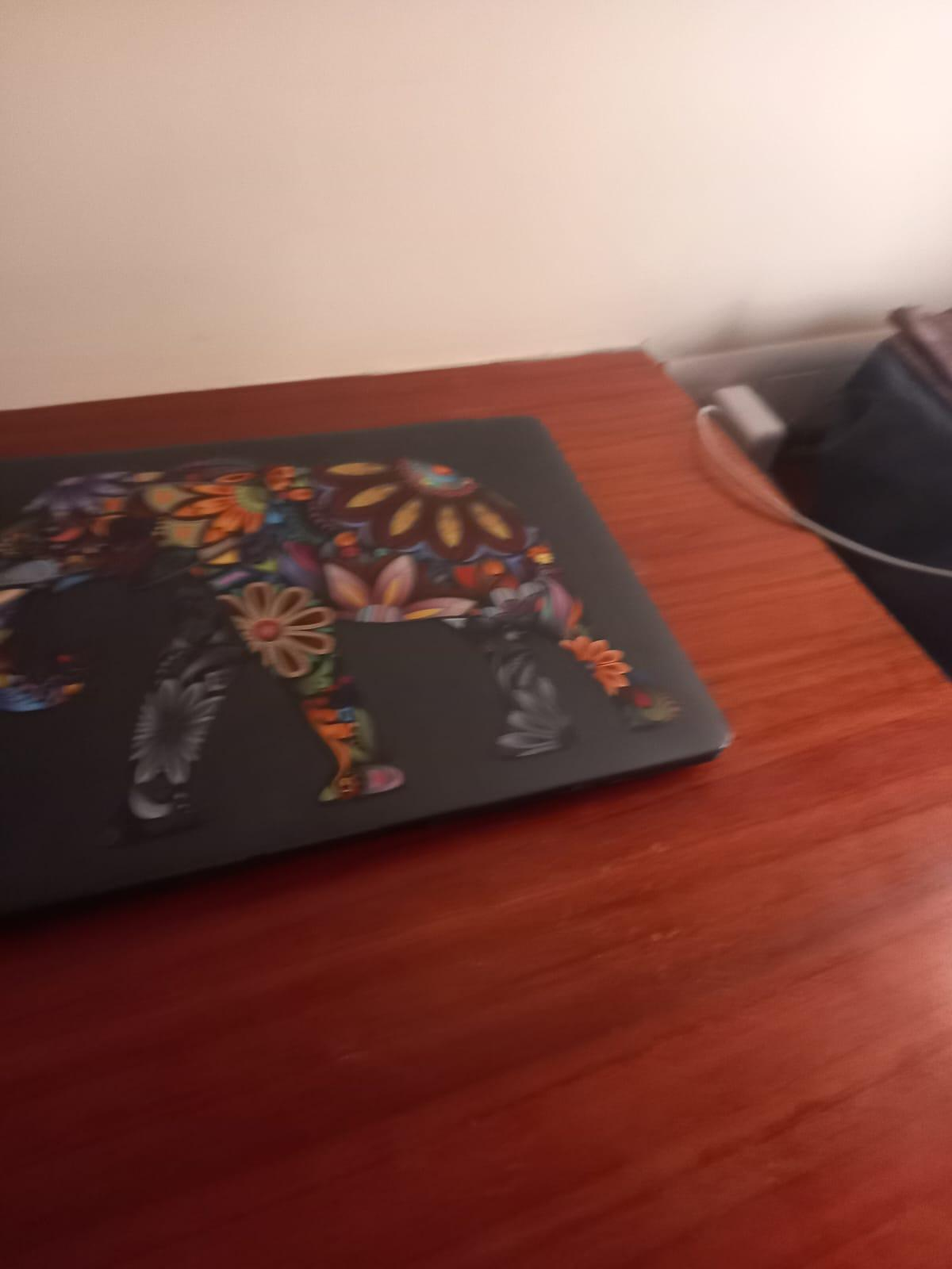laptop: (11, 417, 677, 909)
